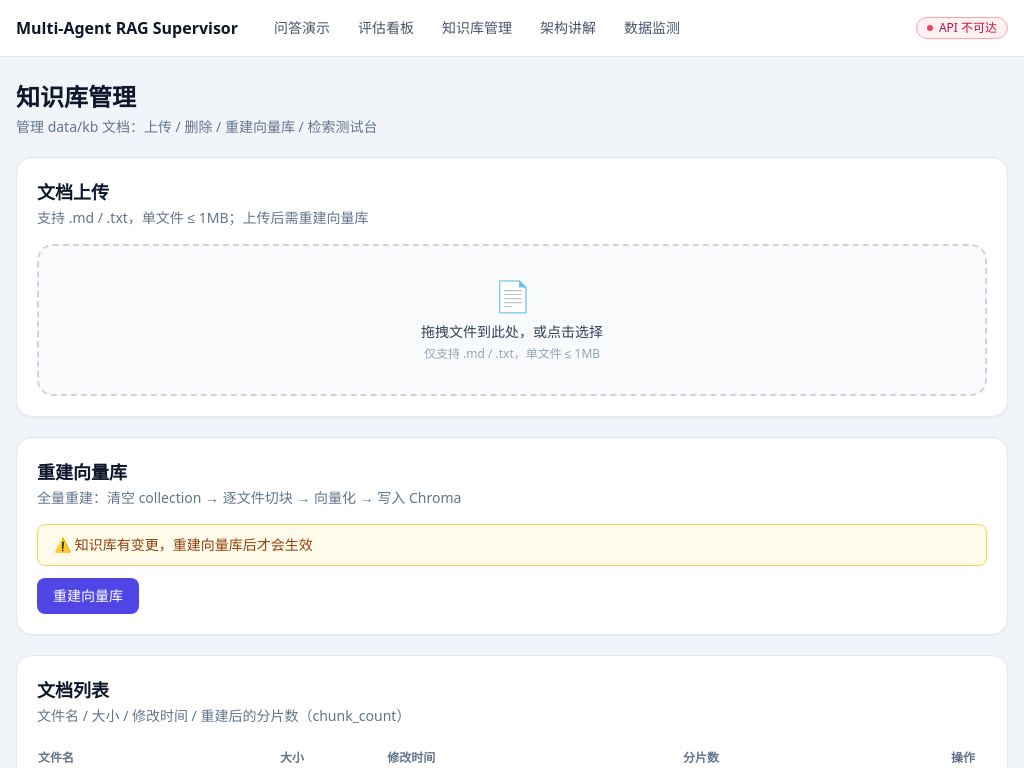
it: KbPage › 重建向量库展示逐文件进度并完成
The image size is (1024, 768).
Click the button with test id "rebuild-button" at (88,596), box [37,578,139,614]
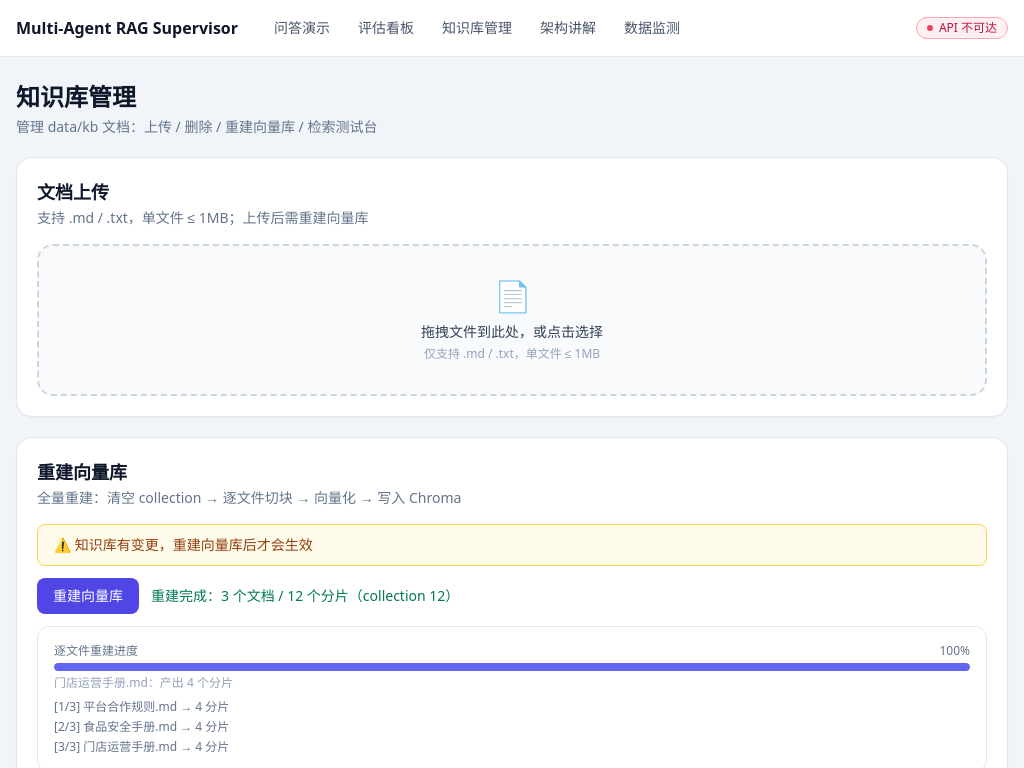
Expected: the text "重建完成：3 个文档 / 12 个分片（collection 12）" is shown, [151,586,459,606]
